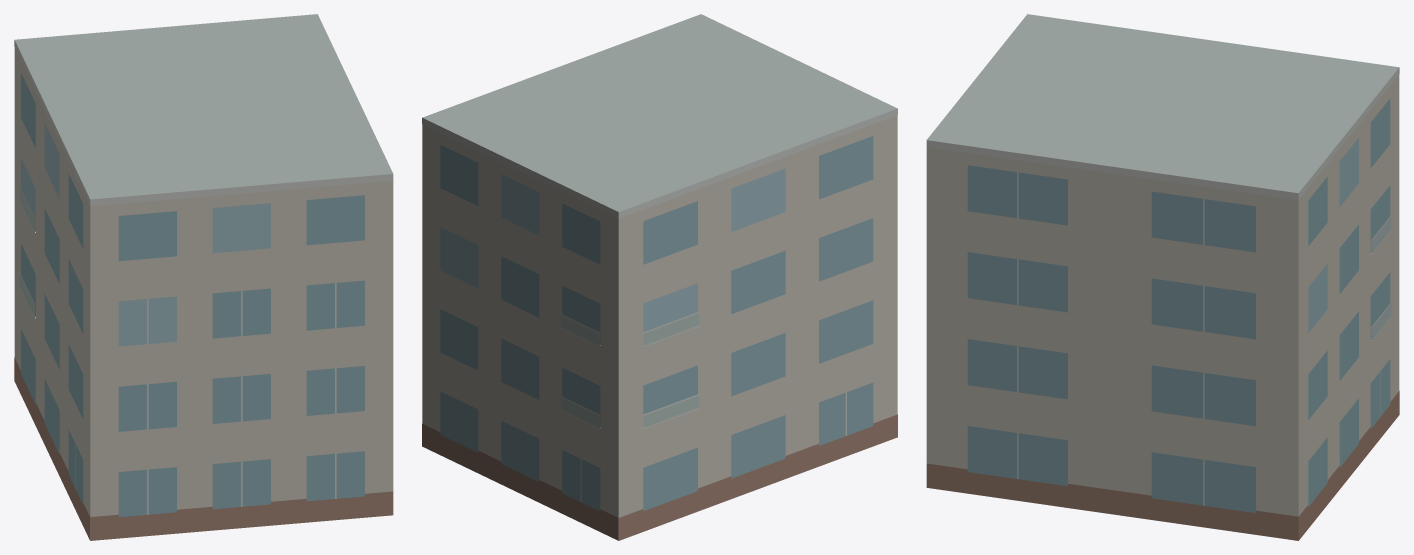
File: residential-24c554a4-63b5-4a1c-8d38-41c28c3f74b5.glb
3 views of the same model, side by side, from view 1: azimuth 30°, elevation 25°; view 2: azimuth 150°, elevation 25°; view 3: azimuth 270°, elevation 25° (orthographic). The views are drawn at different scales.
Parts seen in each view (by area): view 1: residential-24c554a4-63b5-4a1c-8d38-41c28c3f74b5.tmp; view 2: residential-24c554a4-63b5-4a1c-8d38-41c28c3f74b5.tmp; view 3: residential-24c554a4-63b5-4a1c-8d38-41c28c3f74b5.tmp.
Part boxes in pixels (bbox=[...]): residential-24c554a4-63b5-4a1c-8d38-41c28c3f74b5.tmp: bbox=[14, 14, 393, 540]; residential-24c554a4-63b5-4a1c-8d38-41c28c3f74b5.tmp: bbox=[422, 14, 897, 540]; residential-24c554a4-63b5-4a1c-8d38-41c28c3f74b5.tmp: bbox=[926, 14, 1399, 540].
Size of the model in its own units: 13.5 by 12.2 by 15.05.
